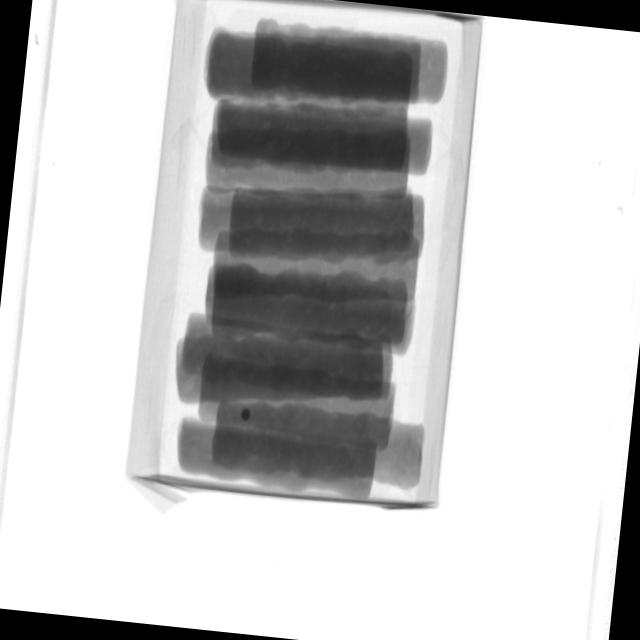ym: (241, 409, 251, 421)
